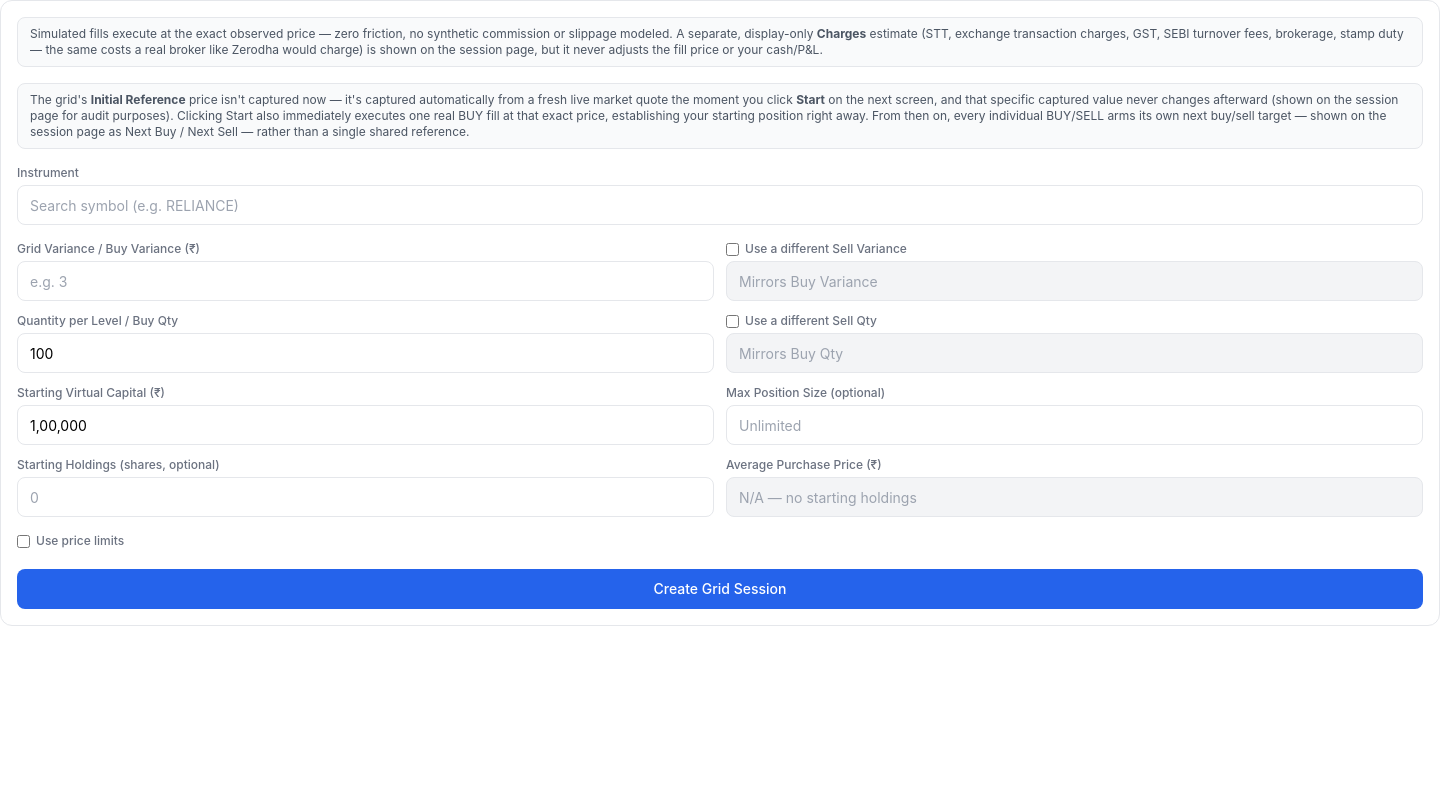
GridSimulatorCreateForm › rejects submission when starting holdings are provided without an average purchase price
Type "GICRE" into the field with placeholder "Search symbol (e.g. RELIANCE)".
click(720, 205); type("GICRE")  # box [17,185,1423,225]
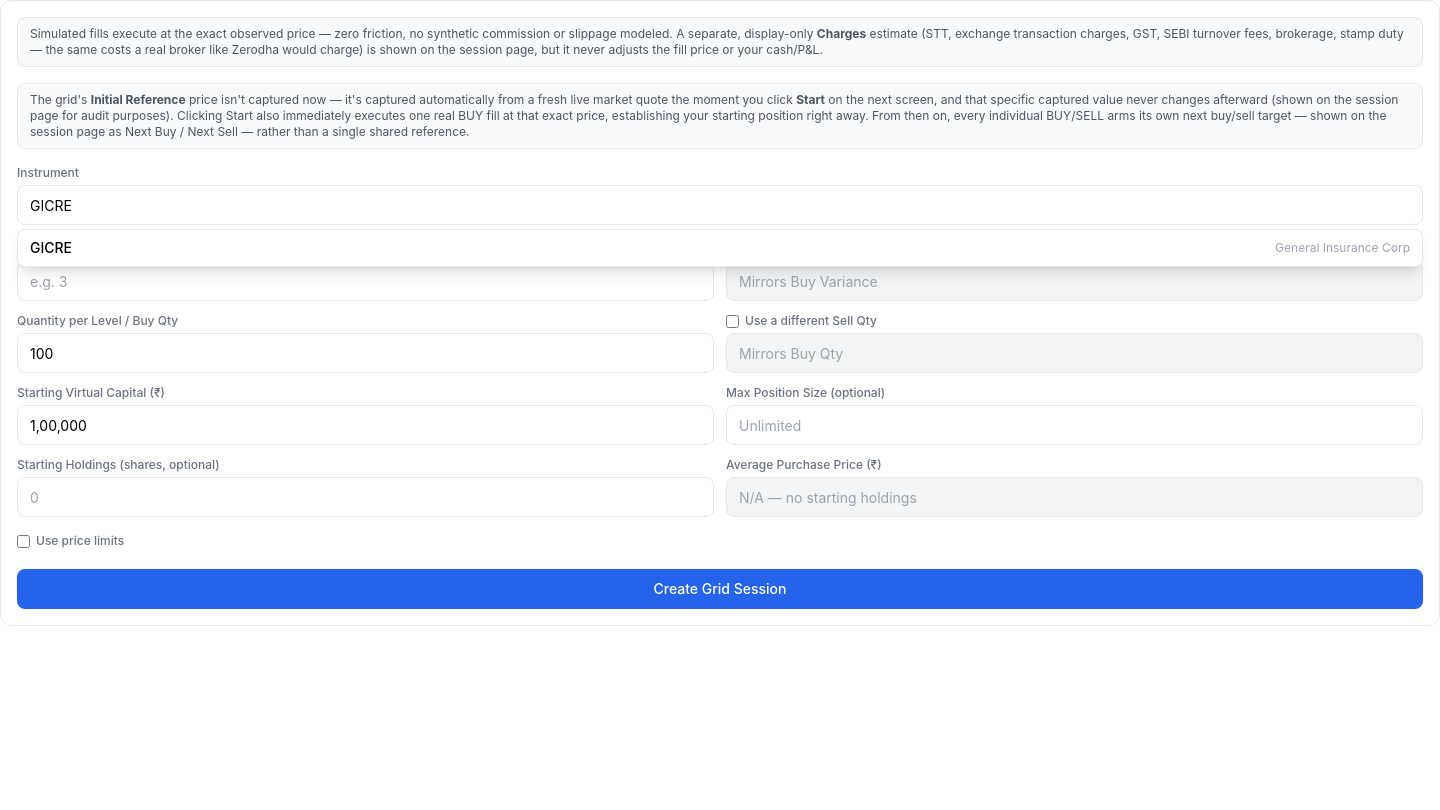
Expected: the text "GICRE" is shown
Click the text "GICRE".
click(51, 248)  # box [30,238,72,258]
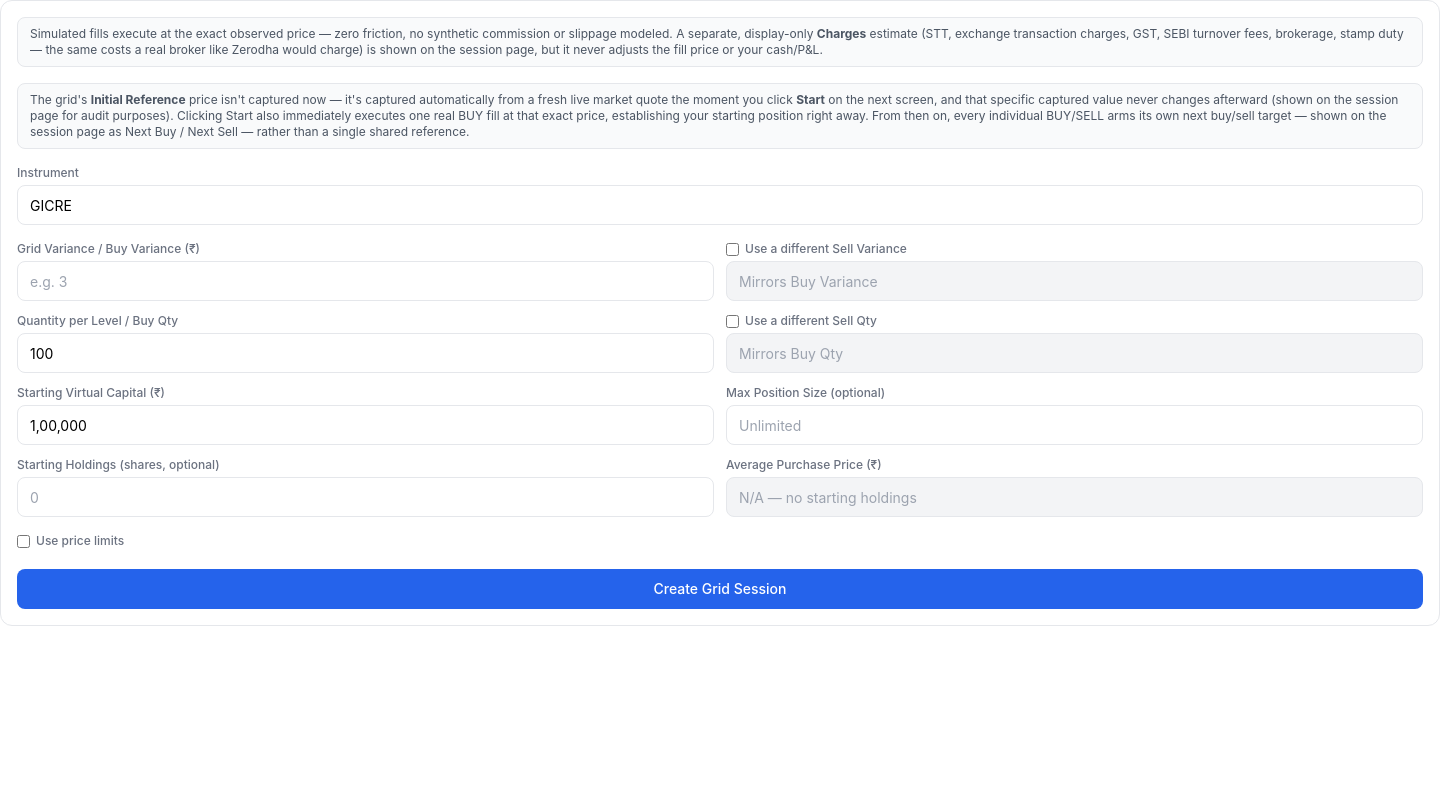
Type "3" into the number field with placeholder "e.g. 3".
click(366, 281); type("3")  # box [17,261,714,301]
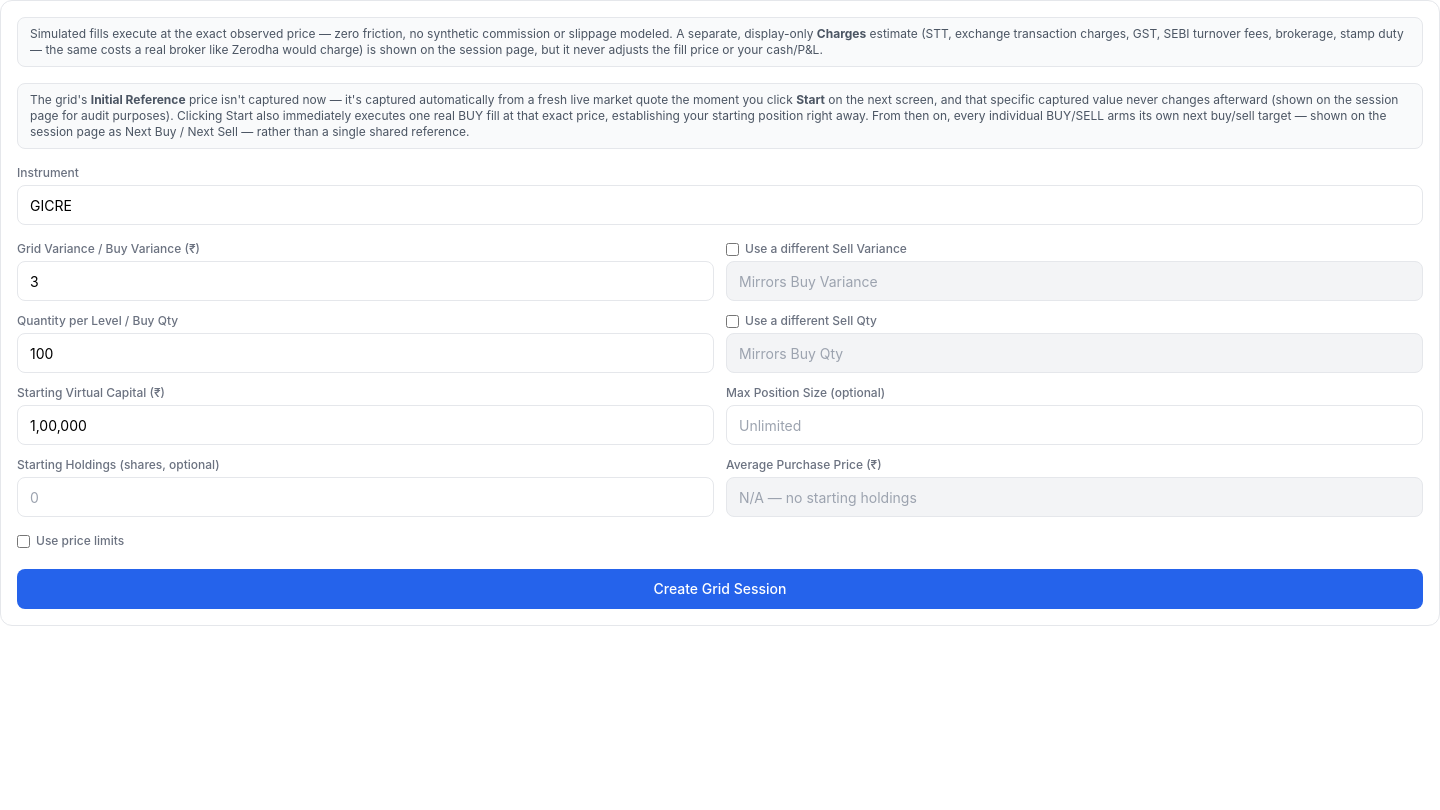
Type "200" into the number field with placeholder "0".
click(366, 497); type("200")  # box [17,477,714,517]
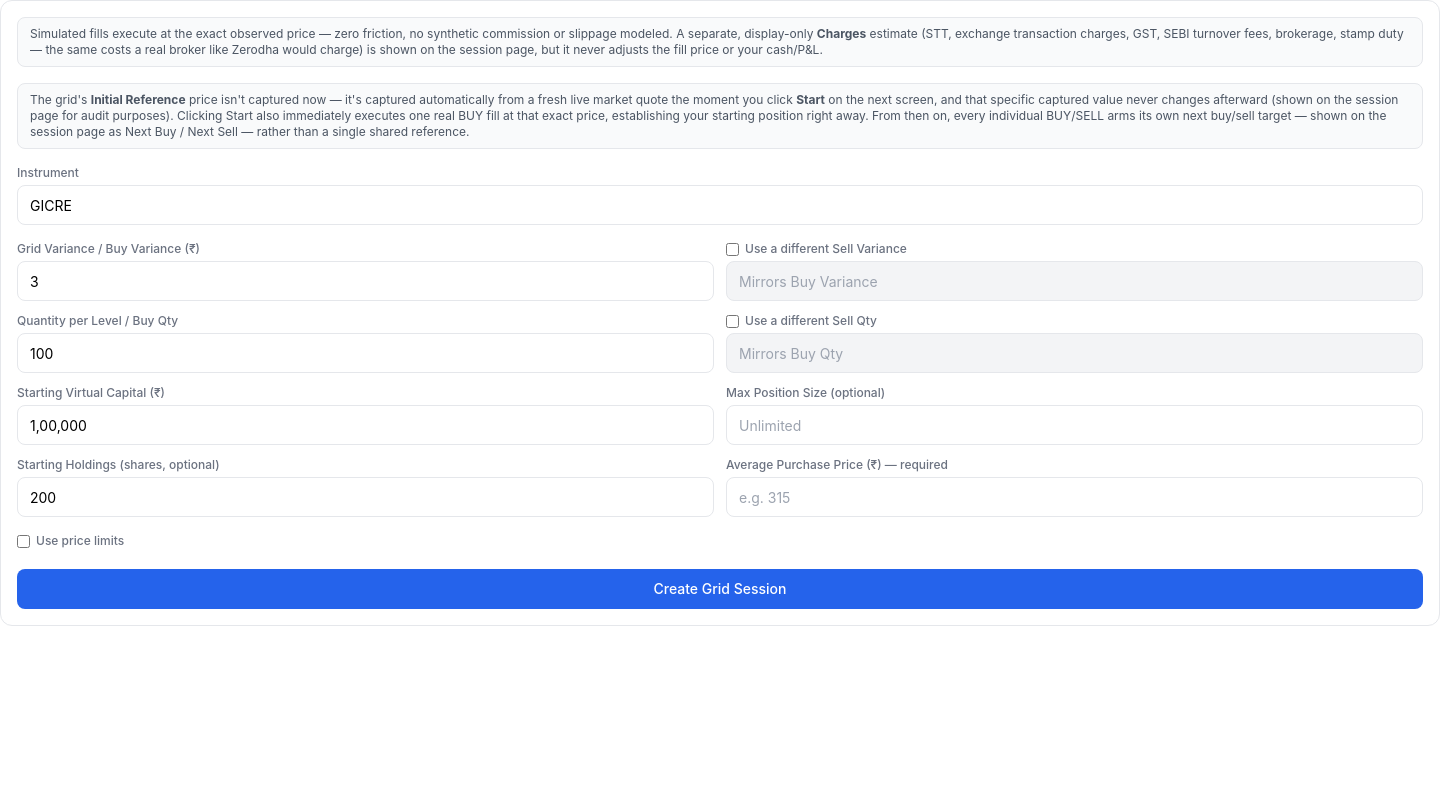
Click the button "Create Grid Session".
click(720, 589)  # box [17,569,1423,609]
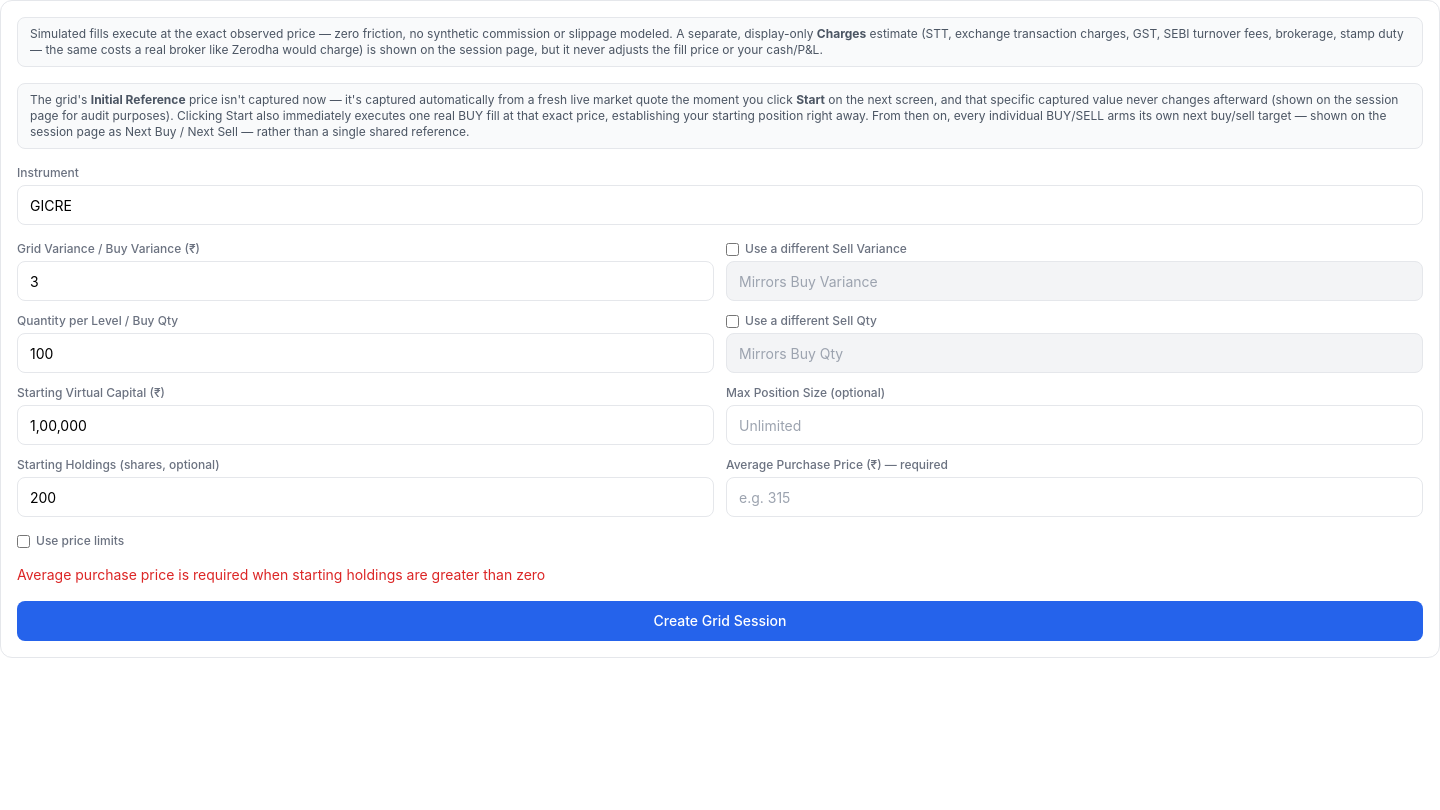
Expected: the text "Average purchase price is required" is shown, [17,566,545,583]
